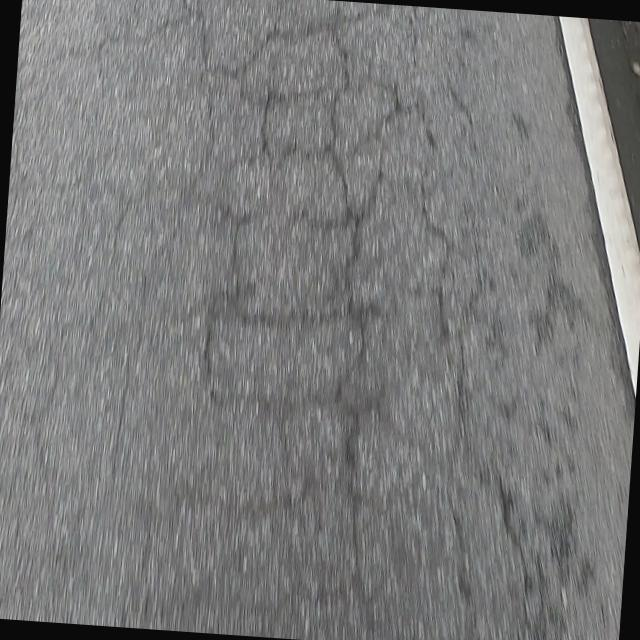Retak-Buaya: (185, 6, 532, 640)
